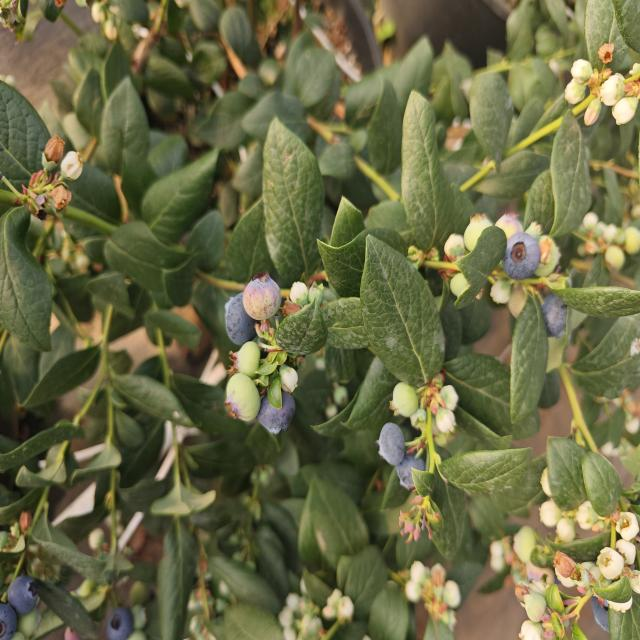ripe: (500, 229, 542, 284), (536, 292, 580, 342), (394, 452, 437, 492), (376, 421, 412, 468), (218, 290, 248, 345), (260, 394, 297, 438), (6, 568, 38, 618), (0, 594, 22, 640), (112, 602, 135, 638)
